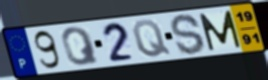2: (102, 20, 139, 65)
9: (32, 29, 62, 70)
M: (197, 9, 244, 53)
Q: (60, 25, 102, 67), (130, 18, 173, 59)
S: (169, 13, 207, 57)
